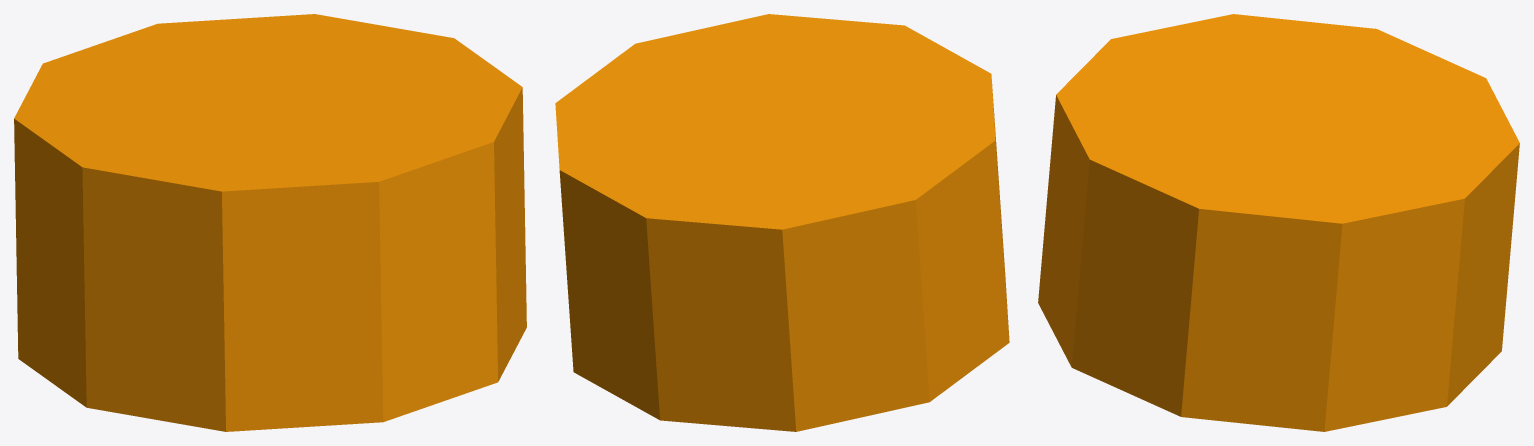
The model's file is group929743853_lev3.glb.
The picture shows the model from 3 angles, left to right: view 1: azimuth 30°, elevation 25°; view 2: azimuth 150°, elevation 25°; view 3: azimuth 270°, elevation 25°; orthographic projection. The views are drawn at different scales.
Visible parts, largest first — view 1: group929743853_lev3; view 2: group929743853_lev3; view 3: group929743853_lev3.
Part boxes in pixels (box(x1,y1,x2,y2)): group929743853_lev3: box(14, 14, 526, 431); group929743853_lev3: box(555, 14, 1009, 431); group929743853_lev3: box(1038, 14, 1519, 431).
Bounding box in the file's own units: 0.5408 × 0.3172 × 0.5674.
